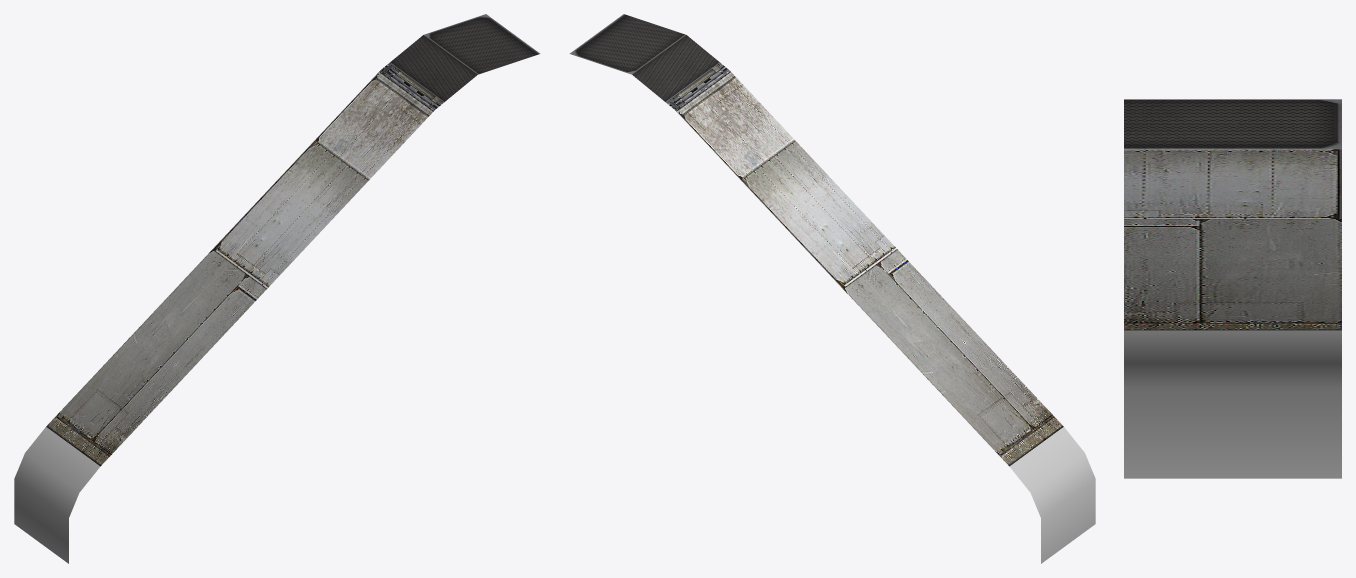
File: Roof_A_Big4mts08.fbx
3 views of the same model, side by side, from view 1: azimuth 30°, elevation 25°; view 2: azimuth 150°, elevation 25°; view 3: azimuth 270°, elevation 25° (orthographic). The views are drawn at different scales.
Visible parts, largest first — view 1: Roof_A_Big4mts08; view 2: Roof_A_Big4mts08; view 3: Roof_A_Big4mts08.
Part boxes in pixels (left/top/right/bottom): Roof_A_Big4mts08: left=14, top=14, right=540, bottom=563; Roof_A_Big4mts08: left=569, top=14, right=1095, bottom=563; Roof_A_Big4mts08: left=1124, top=99, right=1341, bottom=478.
Bounding box in the file's own units: 500 × 400 × 100.
